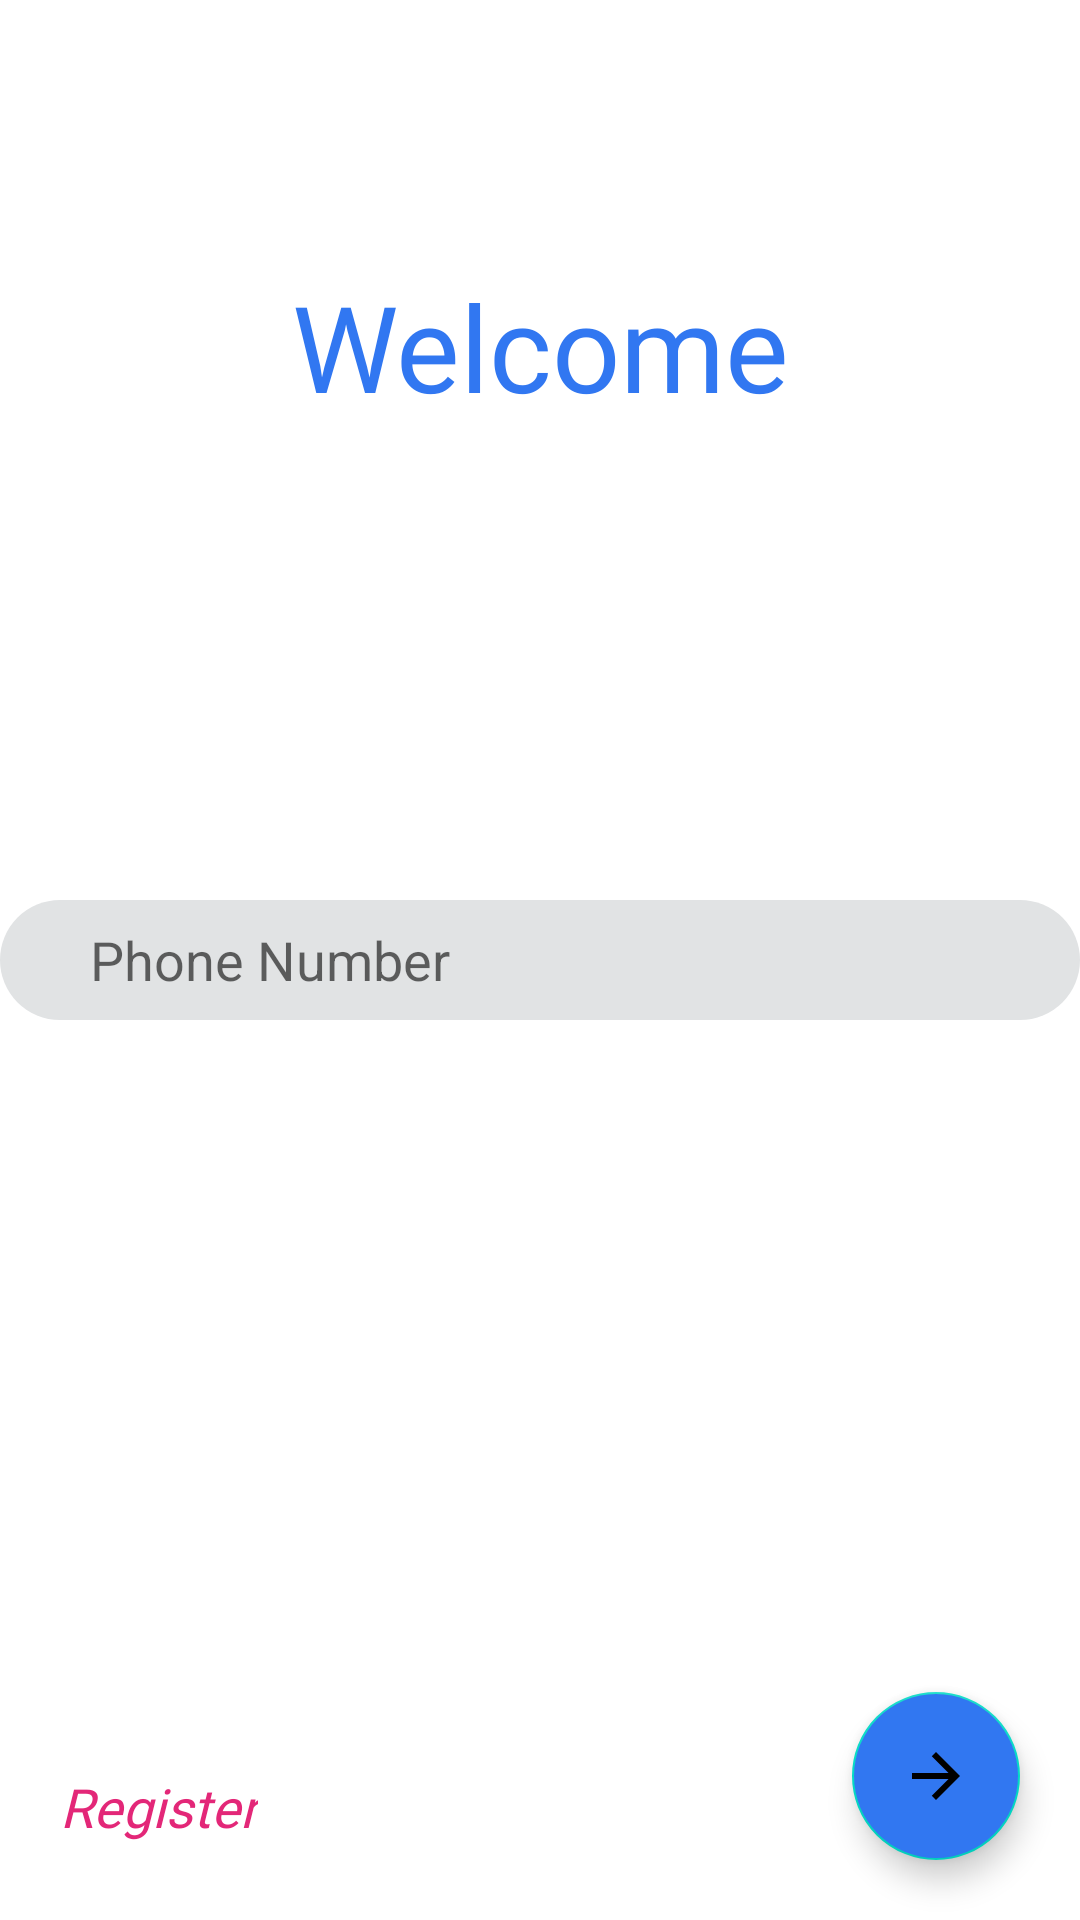

Screen size 1080 × 1920. Icon name, then its center in pixels as (x,y):
Click to get OTP: (936,1776)
